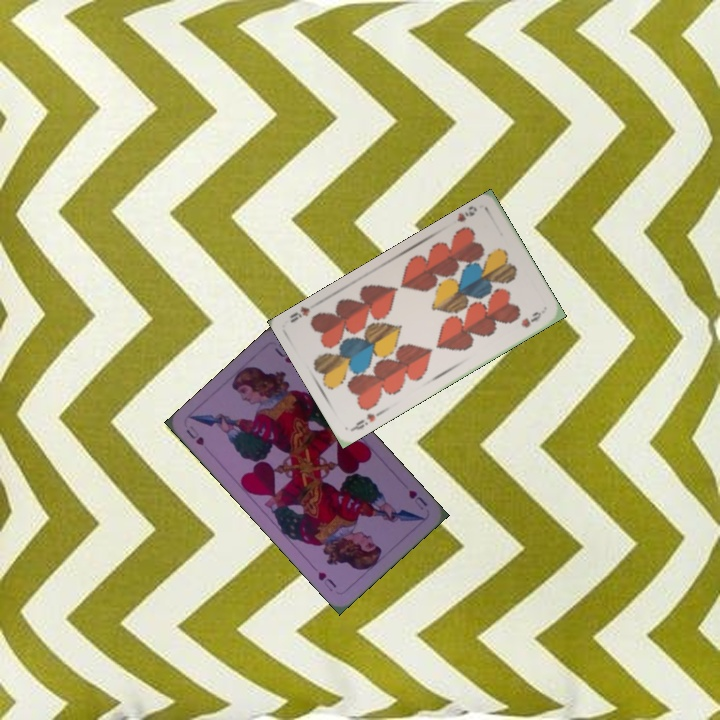H9: (348, 409, 378, 433), (453, 202, 480, 225)
HU: (404, 486, 430, 513), (182, 421, 207, 448)
